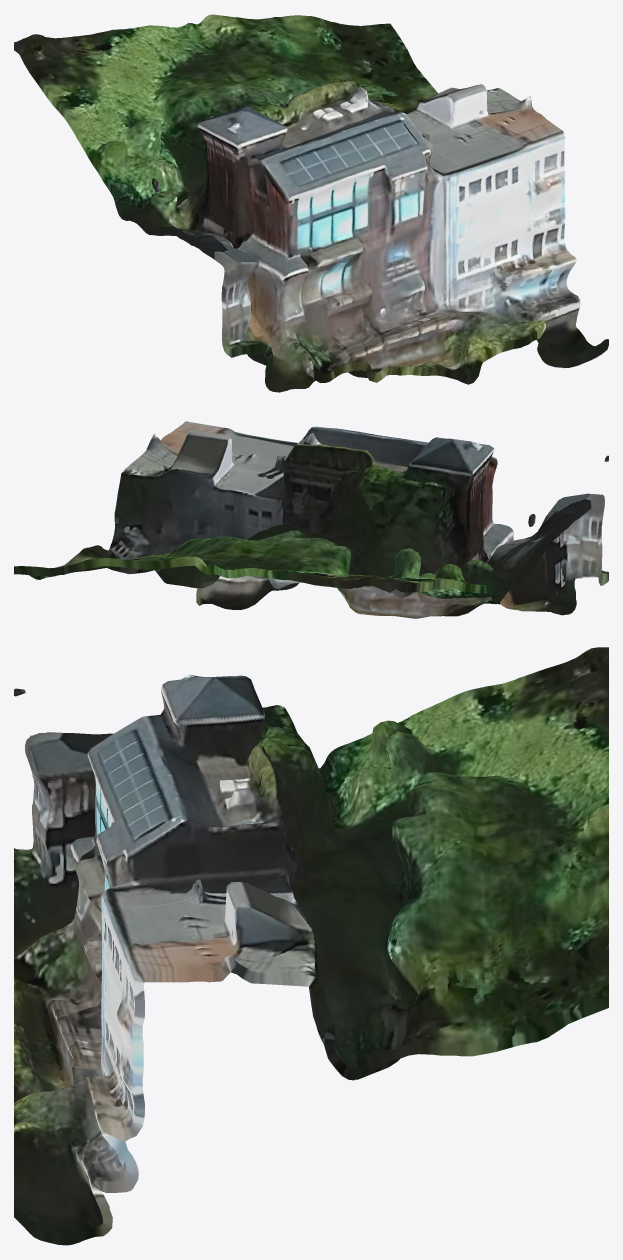
The model's file is z20-167756-405194-h0-yup-uvflip-v3-world.glb.
3 views of the same model, one above another, from view 1: azimuth 30°, elevation 25°; view 2: azimuth 150°, elevation 25°; view 3: azimuth 270°, elevation 25° (orthographic). The views are drawn at different scales.
Size of the model in its own units: 30.16 by 20.96 by 30.32.
Materials: 1 (1 with a texture image).
